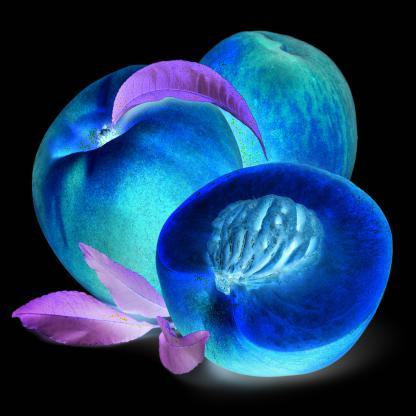Peach leaf: (111, 59, 269, 161), (9, 289, 157, 354), (75, 238, 164, 314), (156, 323, 209, 380)
